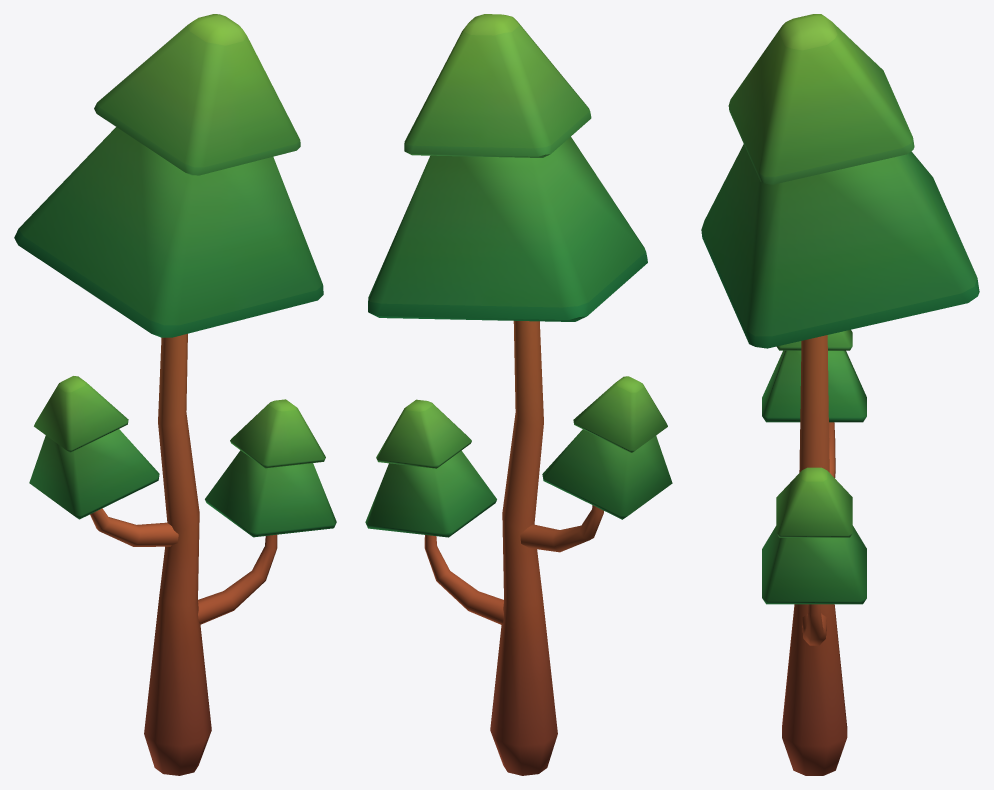
Rendered from Tree_4_B_Color1.glb.
3 renders of one model, left to right at view 1: azimuth 30°, elevation 25°; view 2: azimuth 150°, elevation 25°; view 3: azimuth 270°, elevation 25°, orthographic. The views are drawn at different scales.
Parts seen in each view (by area): view 1: Tree_4_B_Color1; view 2: Tree_4_B_Color1; view 3: Tree_4_B_Color1.
Part boxes in pixels (<box>): Tree_4_B_Color1: <box>14,14,336,775</box>; Tree_4_B_Color1: <box>365,14,672,775</box>; Tree_4_B_Color1: <box>701,14,979,775</box>.
Bounding box in the file's own units: 2.57 × 6.94 × 2.27.
Materials: 1 (1 with a texture image).
